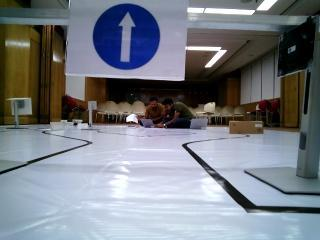straight: (74, 2, 184, 76)
